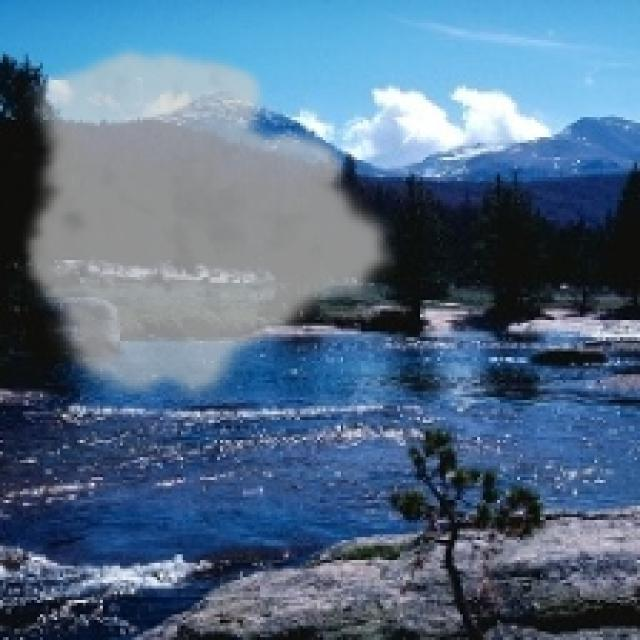Smoke: (20, 42, 400, 408)
